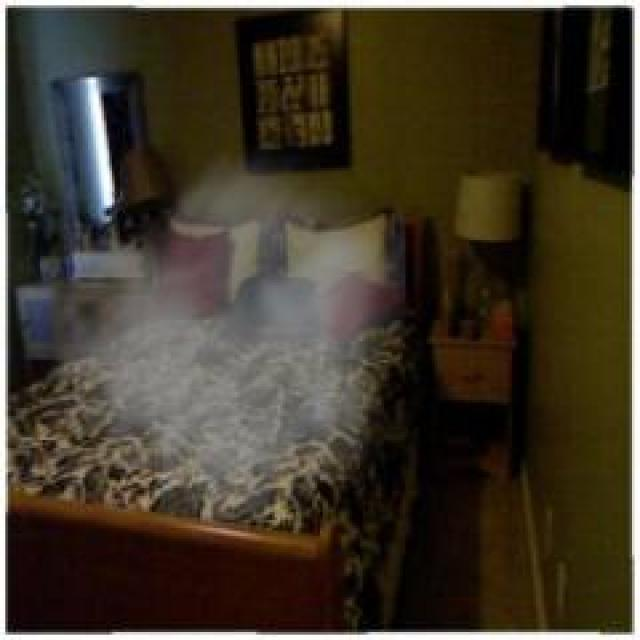smoke: (10, 133, 406, 555)
